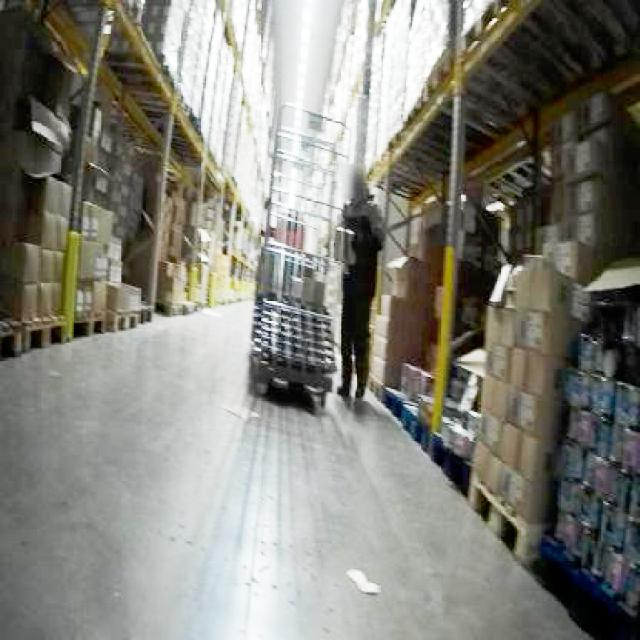ground: (0, 295, 622, 638)
pallet: (365, 0, 638, 638), (465, 254, 588, 565), (543, 277, 638, 638), (248, 100, 351, 409), (0, 174, 152, 368), (0, 278, 152, 366), (248, 294, 337, 409), (366, 252, 434, 392), (466, 477, 546, 565)
